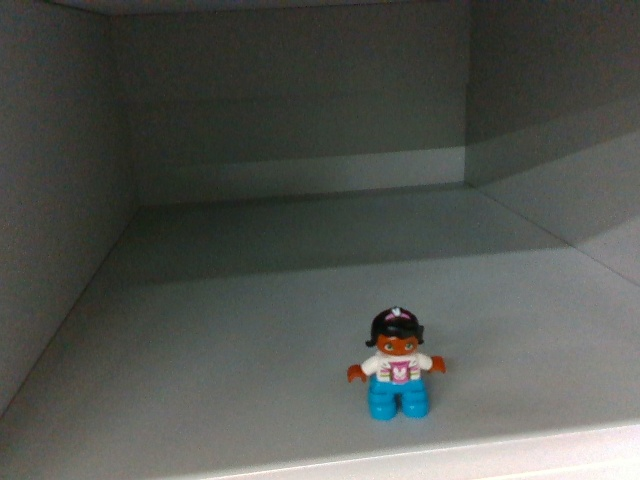people: (343, 303, 445, 425)
